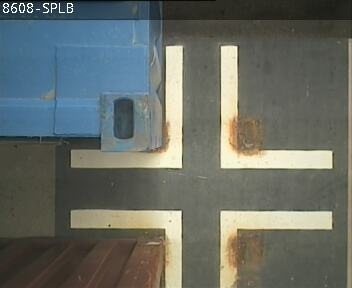groundmarker_1: (71, 46, 330, 168), (72, 209, 331, 288)
